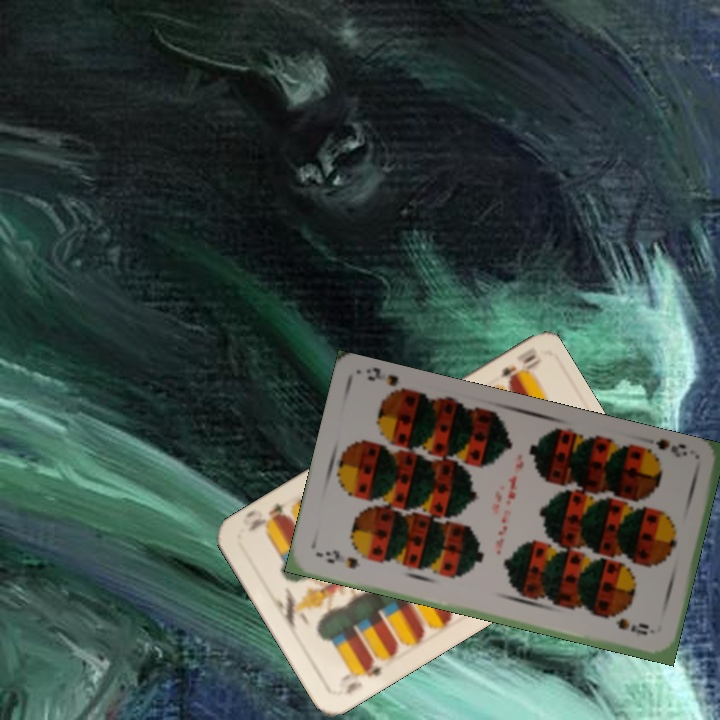E10: (334, 655, 385, 698), (497, 350, 543, 385)
S9: (313, 547, 363, 572), (638, 440, 690, 463)
